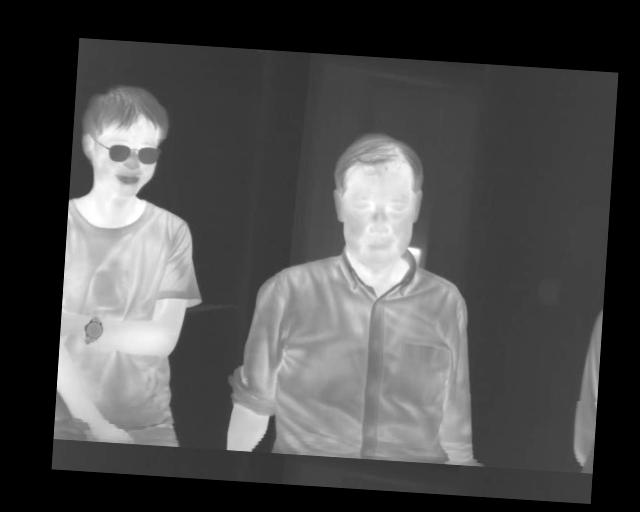face: (326, 128, 427, 273), (76, 81, 168, 201)
